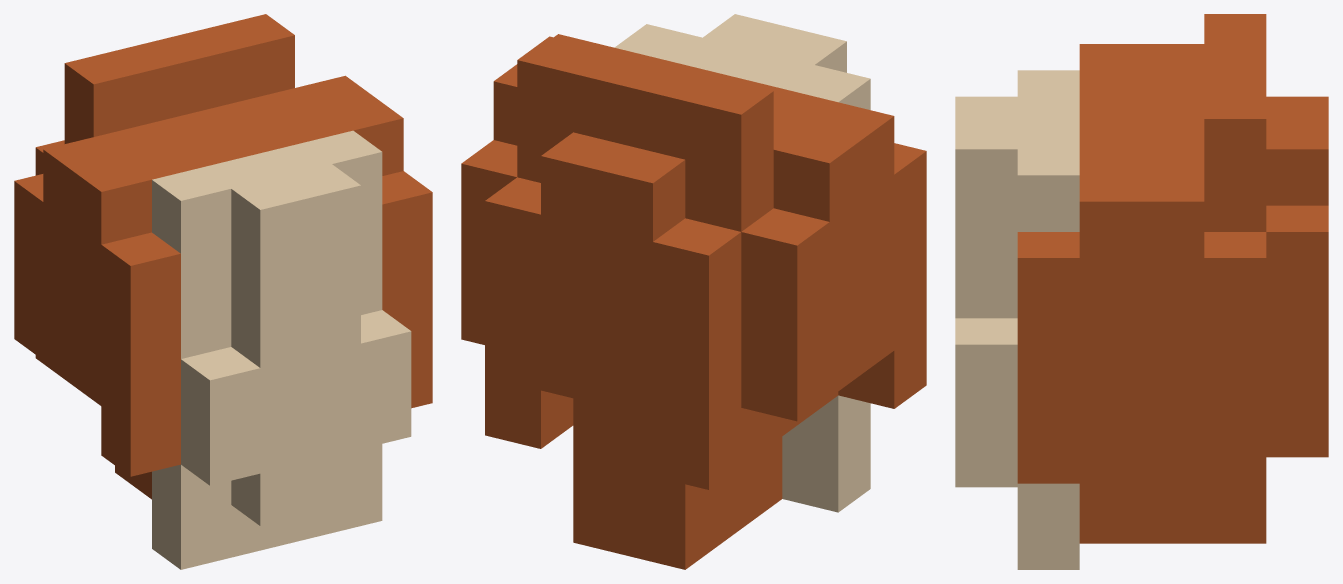
The model's file is squirrel__body.glb.
3 renders of one model, left to right at view 1: azimuth 30°, elevation 25°; view 2: azimuth 150°, elevation 25°; view 3: azimuth 270°, elevation 25°, orthographic. The views are drawn at different scales.
Parts seen in each view (by area): view 1: squirrel__body; view 2: squirrel__body; view 3: squirrel__body.
Boxes of the visible parts, x1,y1,x2,y2 form: squirrel__body: (14,14,432,569); squirrel__body: (461,14,926,569); squirrel__body: (955,14,1328,569).
Bounding box in the file's own units: 0.6 × 0.8 × 0.6.
Materials: 1 (1 with a texture image).
